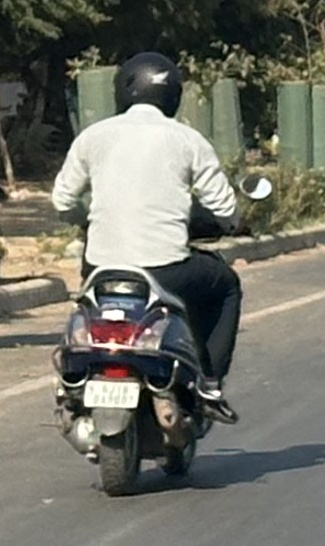BikeWithRider: (35, 45, 288, 500)
Helmet: (105, 47, 189, 122)
